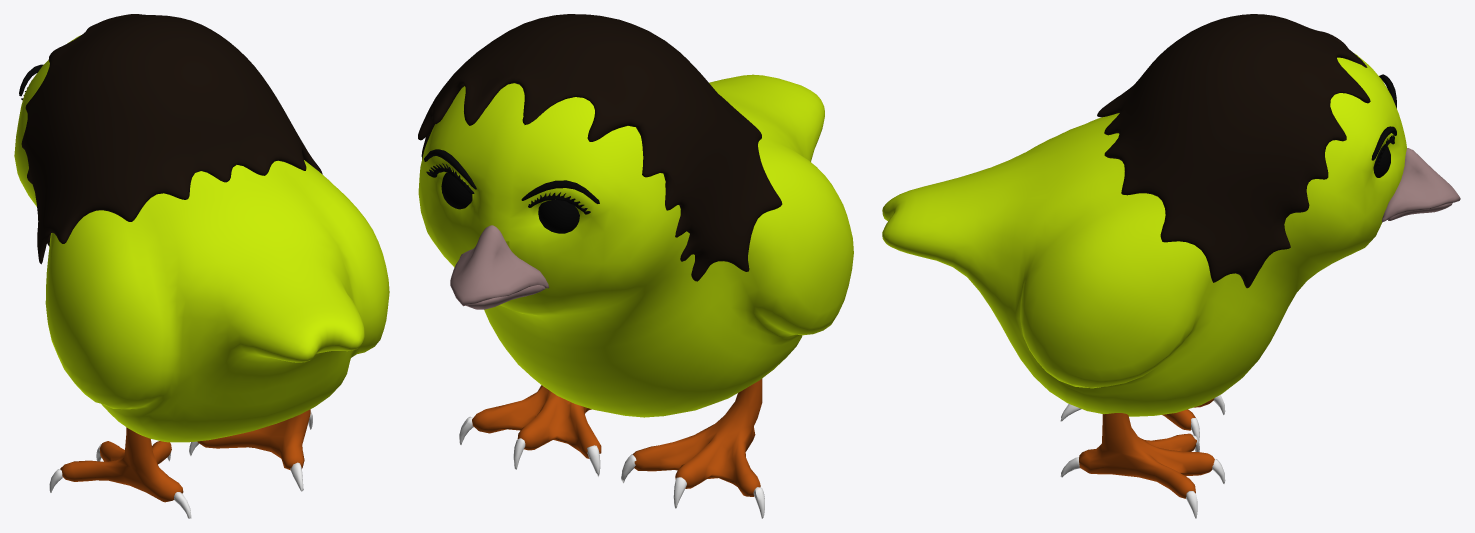
Rendered from Angiolina_FBX.FBX.
3 renders of one model, left to right at view 1: azimuth 30°, elevation 25°; view 2: azimuth 150°, elevation 25°; view 3: azimuth 270°, elevation 25°, orthographic. The views are drawn at different scales.
Parts seen in each view (by area): view 1: ANGIOLINA_LOW_POLY; view 2: ANGIOLINA_LOW_POLY; view 3: ANGIOLINA_LOW_POLY.
Part boxes in pixels (box(x1,y1,x2,y2)): ANGIOLINA_LOW_POLY: box(14, 14, 389, 518); ANGIOLINA_LOW_POLY: box(418, 14, 853, 518); ANGIOLINA_LOW_POLY: box(882, 14, 1460, 518).
Bounding box in the file's own units: 1.6 × 2.08 × 2.56.
